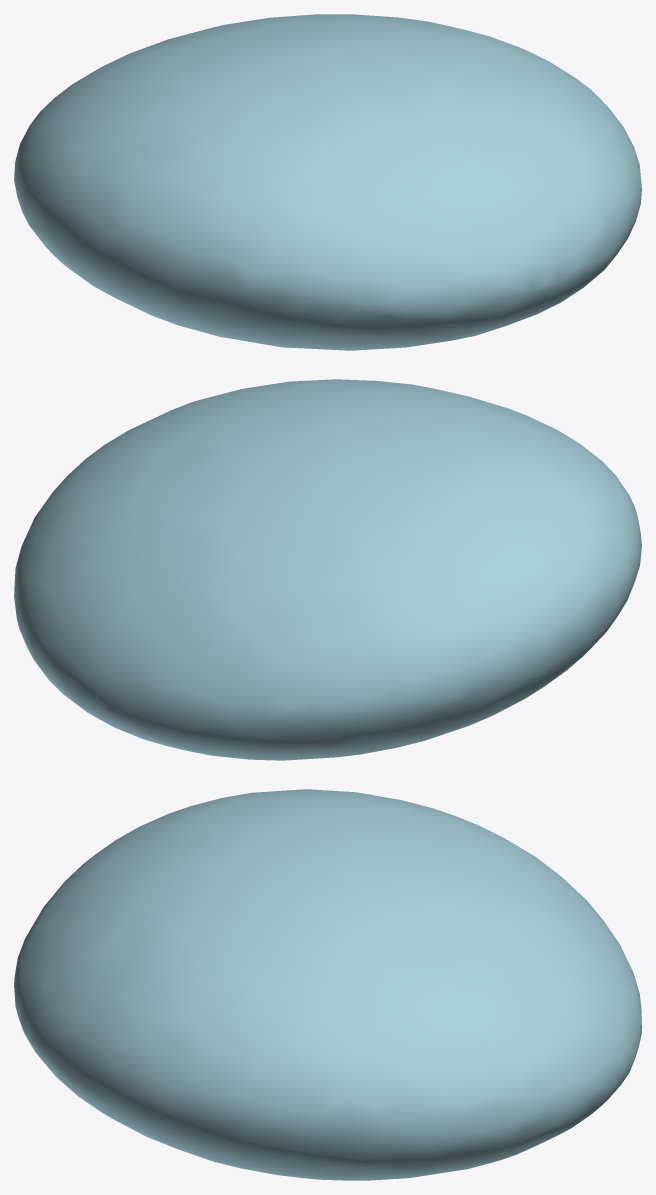
The picture shows the model from 3 angles, top to bottom: view 1: azimuth 30°, elevation 25°; view 2: azimuth 150°, elevation 25°; view 3: azimuth 270°, elevation 25°; orthographic projection.
Parts seen in each view (by area): view 1: 右侧晶状体; view 2: 右侧晶状体; view 3: 右侧晶状体.
Boxes of the visible parts, left/top/right/bottom form: 右侧晶状体: left=14, top=14, right=641, bottom=350; 右侧晶状体: left=14, top=379, right=641, bottom=760; 右侧晶状体: left=14, top=789, right=641, bottom=1180.
Bounding box in the file's own units: 0.0152 × 0.00709 × 0.0153.
